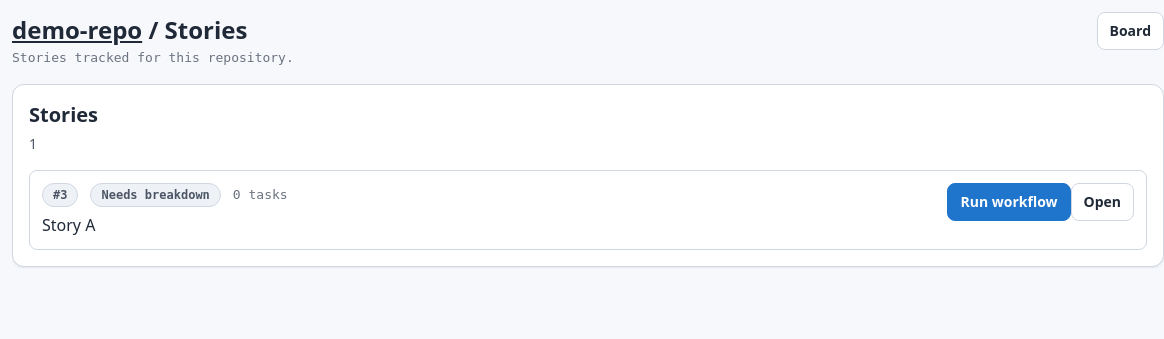
Scenario: StoriesIndexPage › refreshes repository work items on workflow conflict so retry uses latest revision and child task counts
Click the button "Run workflow".
click(1009, 202)  # box 948,182 -> 1070,220
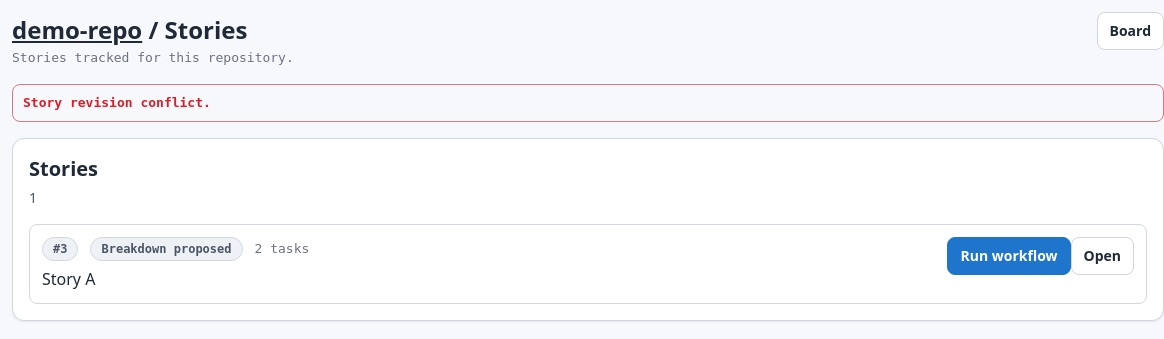
Expected: the message reads "Story revision conflict.", 23,94 -> 211,110
Expected: the text "Breakdown proposed" is shown, 90,236 -> 242,260
Expected: the text "2 tasks" is shown, 254,239 -> 309,258
Click the button "Run workflow".
click(1009, 256)  # box 948,236 -> 1070,274
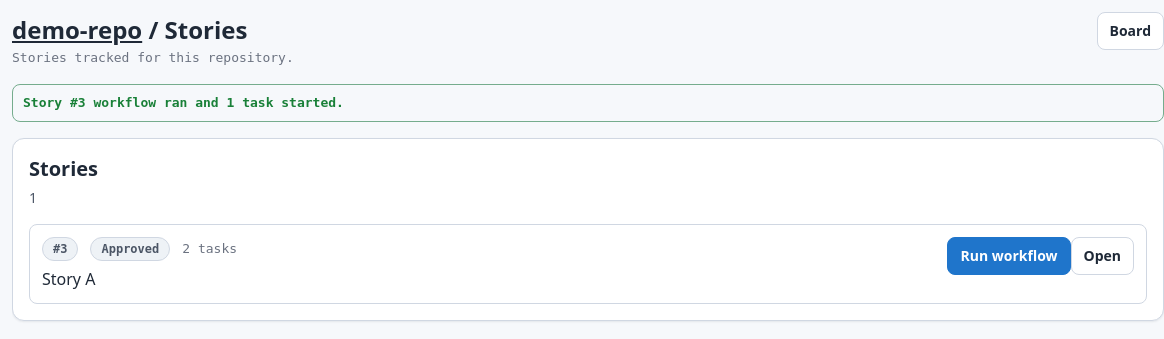
Expected: the text "Story #3 workflow ran and 1 task started." is shown, 12,84 -> 1163,122
